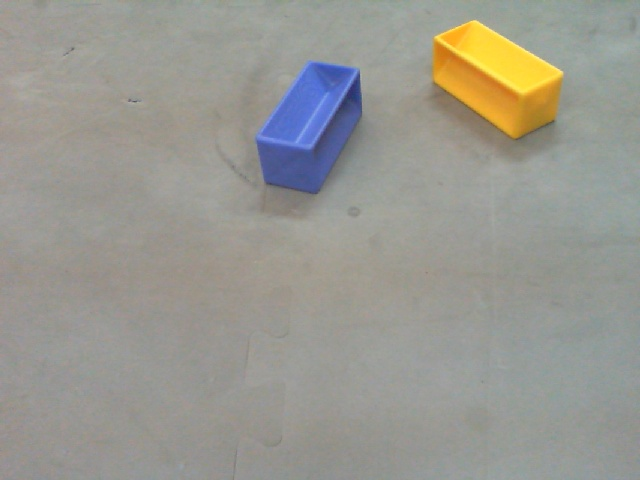BlueSample: (252, 58, 365, 198)
YellowSample: (431, 18, 564, 145)
